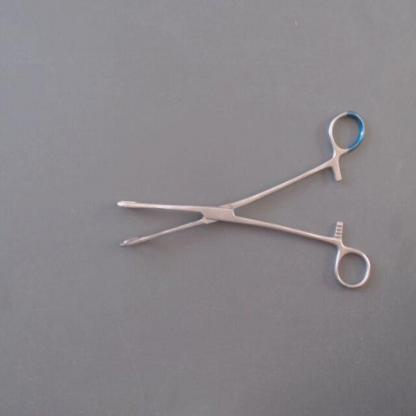Sponge Forceps: (108, 101, 376, 300)
